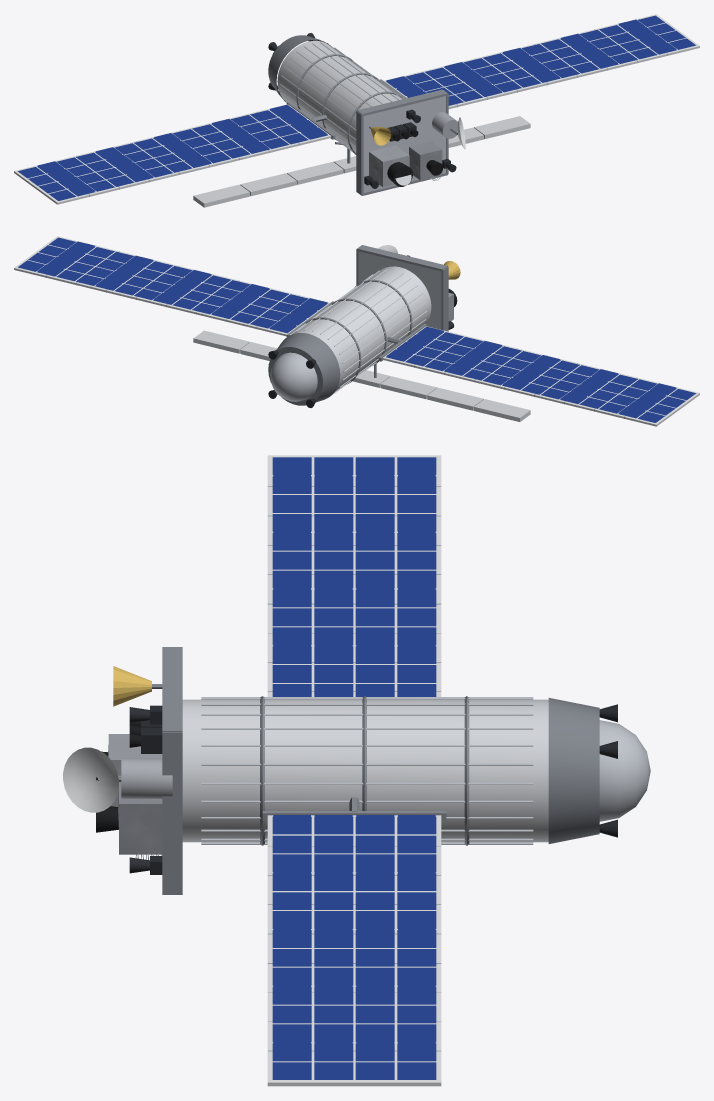
Rendered from meteor-m2.glb.
The picture shows the model from 3 angles, top to bottom: view 1: azimuth 30°, elevation 25°; view 2: azimuth 150°, elevation 25°; view 3: azimuth 270°, elevation 25°; orthographic projection. The views are drawn at different scales.
Visible parts, largest first — view 1: body, solar-panel, foil; view 2: body, solar-panel, foil; view 3: body, solar-panel, foil.
Part boxes in pixels (<box>): body: <box>14,14,699,207</box>; solar-panel: <box>18,15,695,200</box>; foil: <box>369,127,442,187</box>; body: <box>14,236,699,426</box>; solar-panel: <box>18,237,695,422</box>; foil: <box>444,261,460,321</box>; body: <box>63,455,650,1086</box>; solar-panel: <box>272,457,436,1079</box>; foil: <box>108,666,162,854</box>.
Size of the model in its own units: 14.52 by 1.98 by 5.75.
